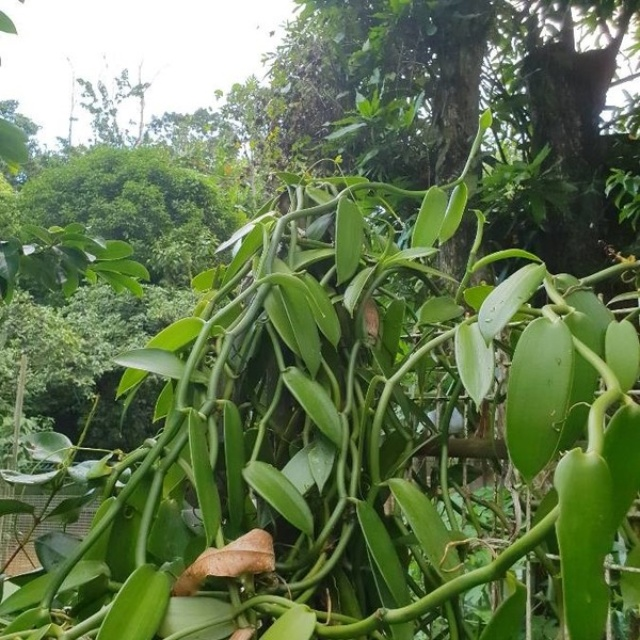obstacle: (100, 161, 621, 615)
